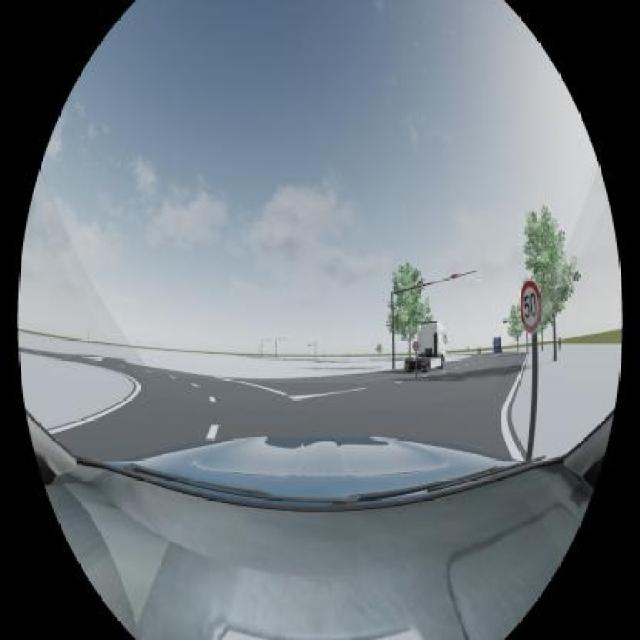forb_speed_over_50: (519, 280, 541, 334)
forb_speed_over_60: (412, 339, 420, 352)
